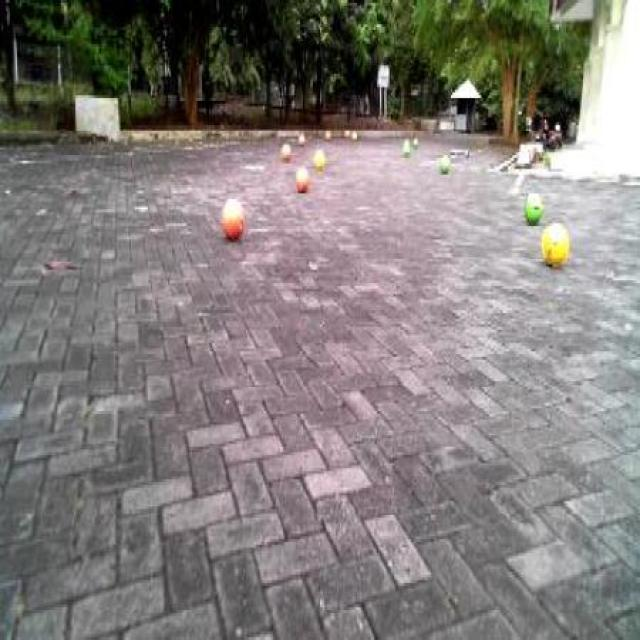buoy: (537, 211, 574, 271), (218, 189, 247, 243), (520, 184, 548, 228), (292, 161, 314, 196), (308, 147, 328, 174), (276, 137, 293, 167), (436, 148, 453, 176)
